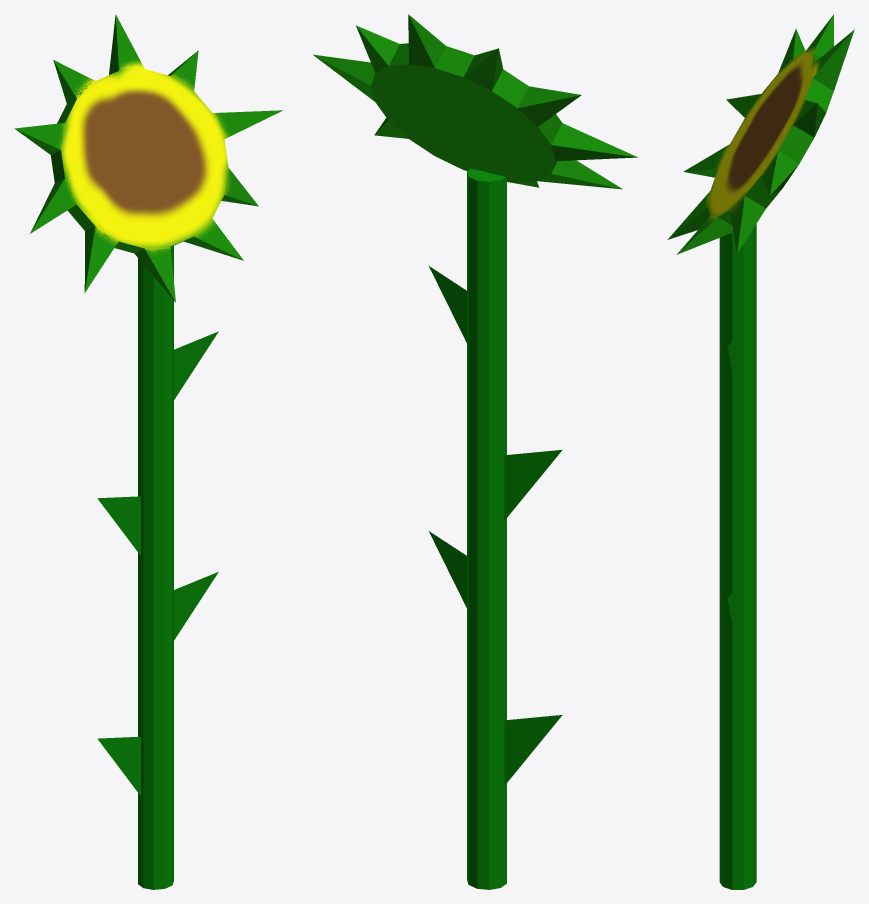
Rendered from slonecznik.fbx.
3 renders of one model, left to right at view 1: azimuth 30°, elevation 25°; view 2: azimuth 150°, elevation 25°; view 3: azimuth 270°, elevation 25°, orthographic. The views are drawn at different scales.
Parts seen in each view (by area): view 1: Cylinder.001, Cylinder; view 2: Cylinder, Cylinder.001; view 3: Cylinder, Cylinder.001.
Boxes of the visible parts, x1,y1,x2,y2 form: Cylinder.001: (14,14,282,302); Cylinder: (97,246,218,889); Cylinder: (429,168,562,889); Cylinder.001: (313,14,637,189); Cylinder: (719,224,756,889); Cylinder.001: (667,14,854,254).
Size of the model in its own units: 44.81 by 128 by 25.34.
